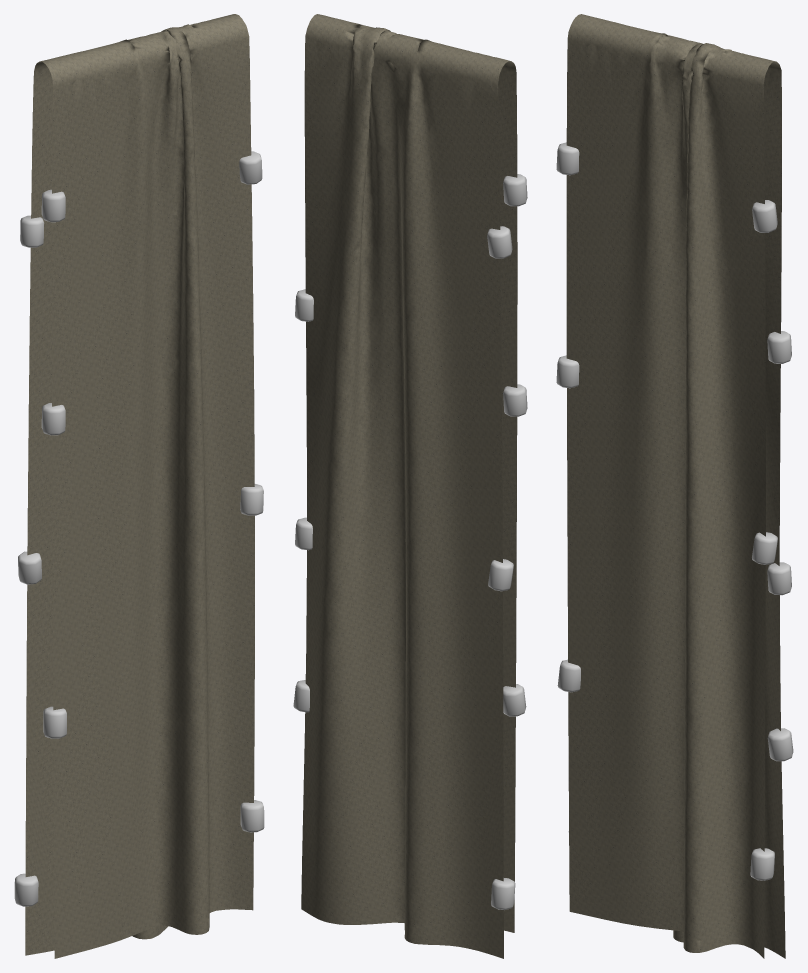
The model's file is SM_Fish_net_3_01.fbx.
3 views of the same model, side by side, from view 1: azimuth 30°, elevation 25°; view 2: azimuth 150°, elevation 25°; view 3: azimuth 330°, elevation 25° (orthographic).
Parts seen in each view (by area): view 1: SM_Fish_net_3_01_LOD0; view 2: SM_Fish_net_3_01_LOD0; view 3: SM_Fish_net_3_01_LOD0.
Part boxes in pixels (x1,y1,x2,y2): SM_Fish_net_3_01_LOD0: [14, 14, 264, 958]; SM_Fish_net_3_01_LOD0: [293, 14, 527, 958]; SM_Fish_net_3_01_LOD0: [556, 14, 793, 958].
Size of the model in its own units: 92.99 by 30.59 by 354.
